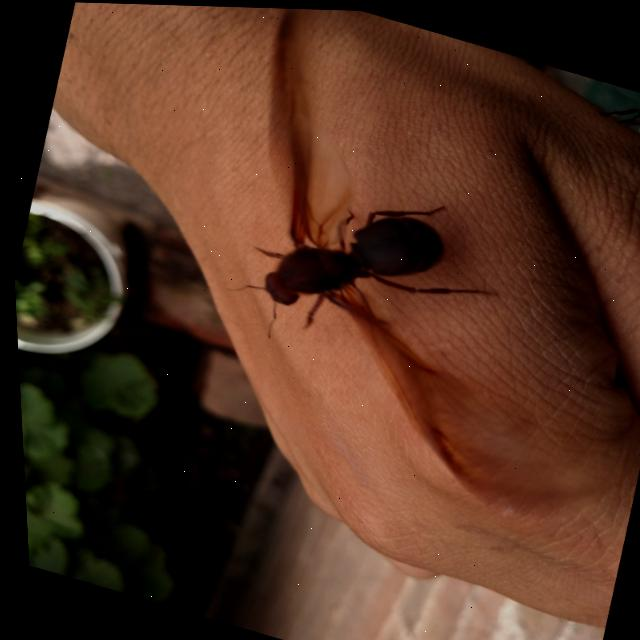Alive-Female-Alate: (169, 4, 640, 537)
